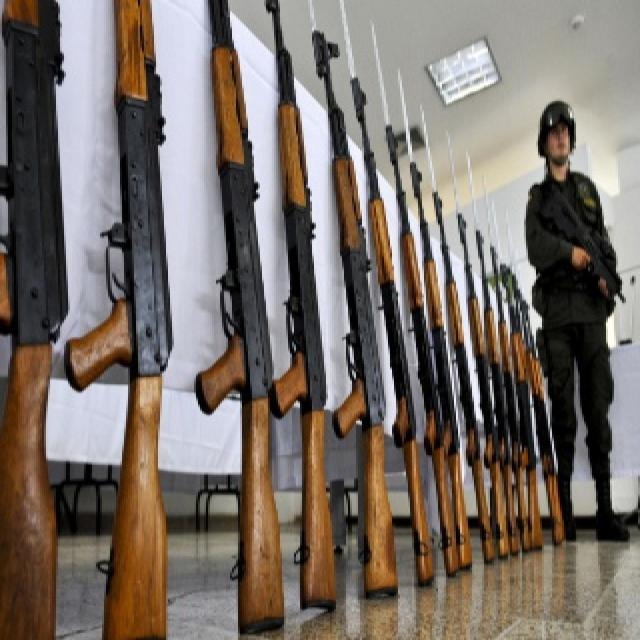rifle: (53, 1, 189, 638), (303, 14, 413, 598), (189, 3, 283, 638), (1, 4, 87, 639), (267, 3, 335, 620)
